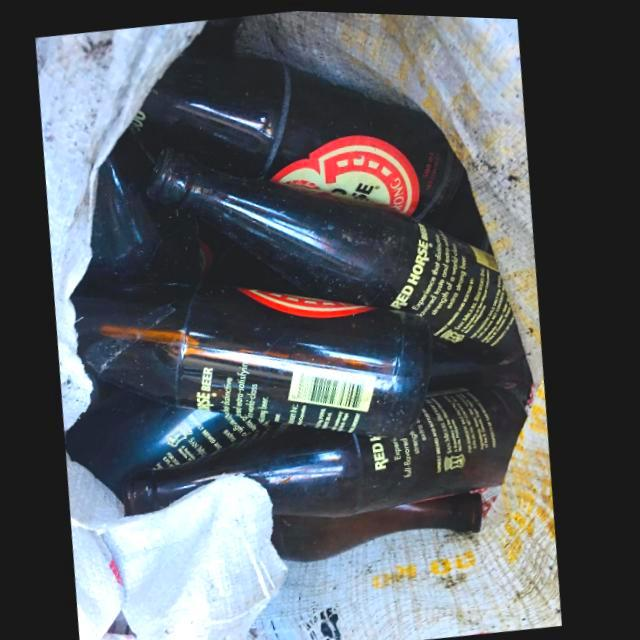glass_bottle: (149, 152, 527, 359), (129, 54, 470, 220), (71, 285, 438, 434), (129, 380, 534, 514)
